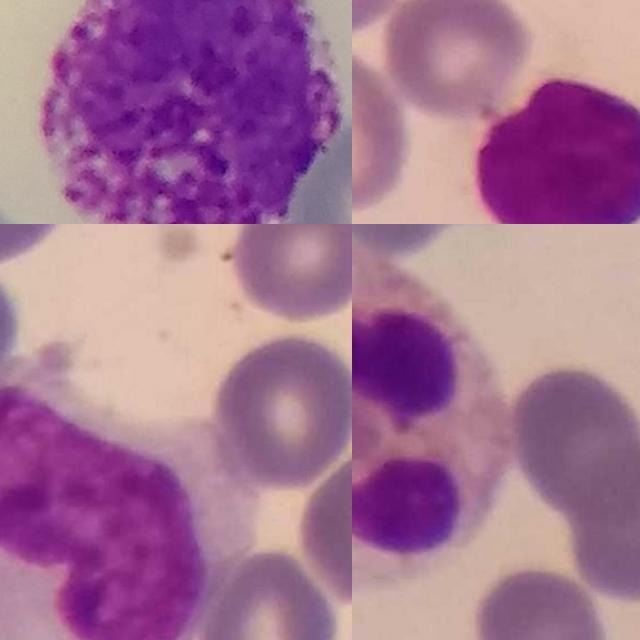Basophil: (37, 0, 341, 224)
Lymphocyte: (475, 72, 640, 224)
Monocyte: (0, 369, 260, 640)
Neutrophil: (352, 243, 509, 589)
